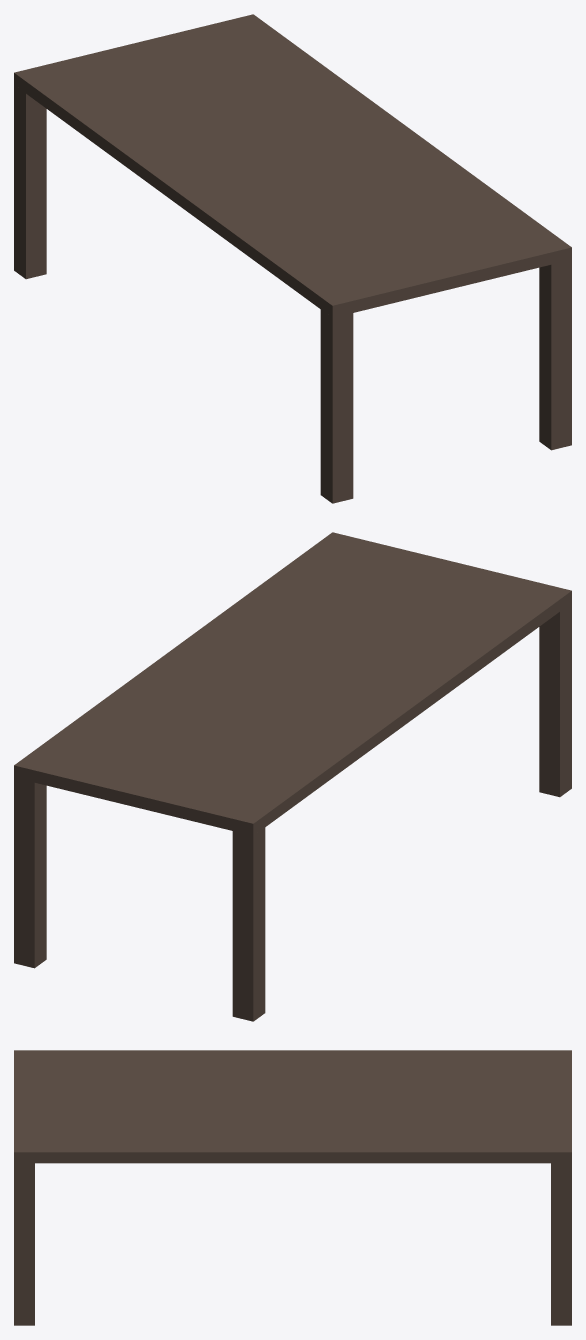
The model's file is GrandeTable_6.fbx.
3 renders of one model, top to bottom at view 1: azimuth 30°, elevation 25°; view 2: azimuth 150°, elevation 25°; view 3: azimuth 270°, elevation 25°, orthographic. The views are drawn at different scales.
Parts seen in each view (by area): view 1: pCube43, pCube47, pCube46, pCube49; view 2: pCube43, pCube49, pCube48, pCube47; view 3: pCube43, pCube48, pCube46.
Boxes of the visible parts, <box> form: pCube43: <box>14,14,571,317</box>; pCube47: <box>320,309,353,503</box>; pCube46: <box>539,259,571,450</box>; pCube49: <box>14,84,46,279</box>; pCube43: <box>14,532,571,835</box>; pCube49: <box>232,827,265,1021</box>; pCube48: <box>14,777,46,968</box>; pCube47: <box>539,602,571,797</box>; pCube43: <box>14,1050,571,1163</box>; pCube48: <box>551,1162,571,1325</box>; pCube46: <box>14,1162,34,1325</box>.
Bounding box in the file's own units: 50.06 × 39.53 × 115.
